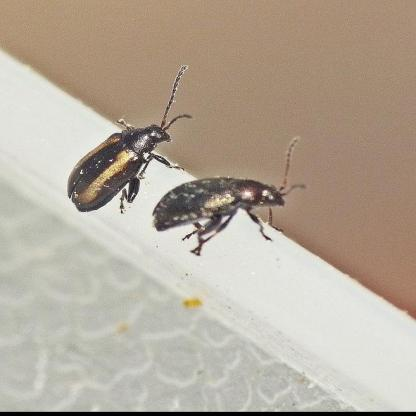beetle: (64, 72, 192, 207), (153, 159, 303, 253)
